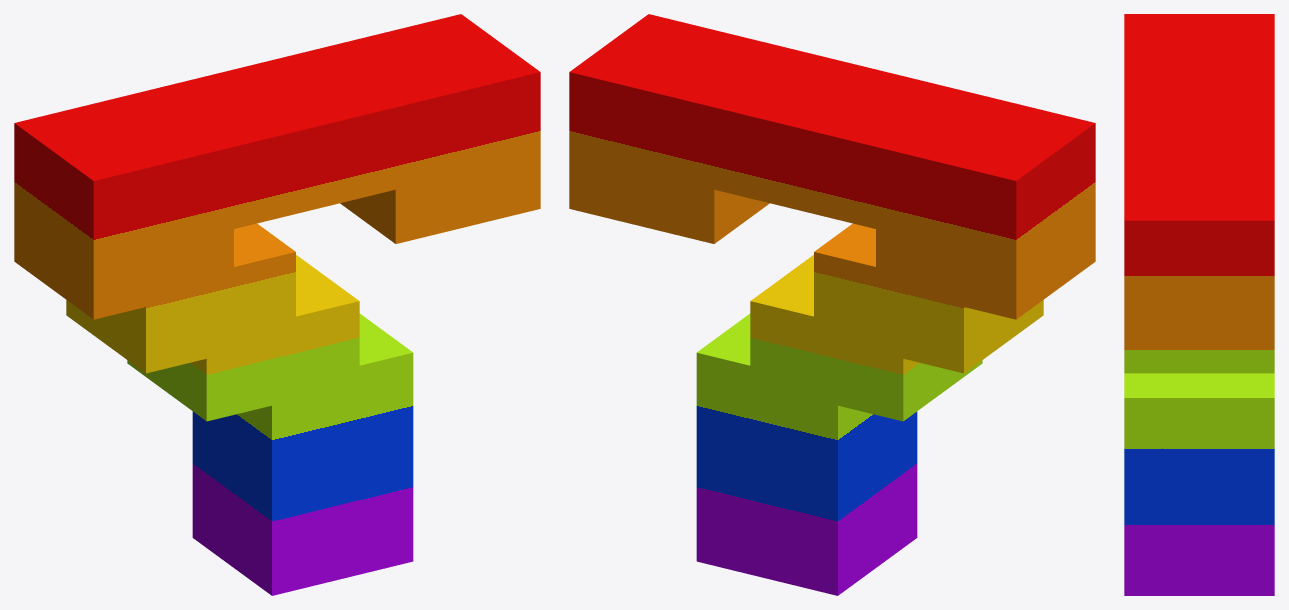
File: Number_07.fbx
3 renders of one model, left to right at view 1: azimuth 30°, elevation 25°; view 2: azimuth 150°, elevation 25°; view 3: azimuth 270°, elevation 25°, orthographic. The views are drawn at different scales.
Parts seen in each view (by area): view 1: Number_07; view 2: Number_07; view 3: Number_07.
Part boxes in pixels (<box>): Number_07: <box>14,14,540,595</box>; Number_07: <box>569,14,1095,595</box>; Number_07: <box>1124,14,1274,595</box>.
Bounding box in the file's own units: 79.03 × 77.46 × 24.3.
